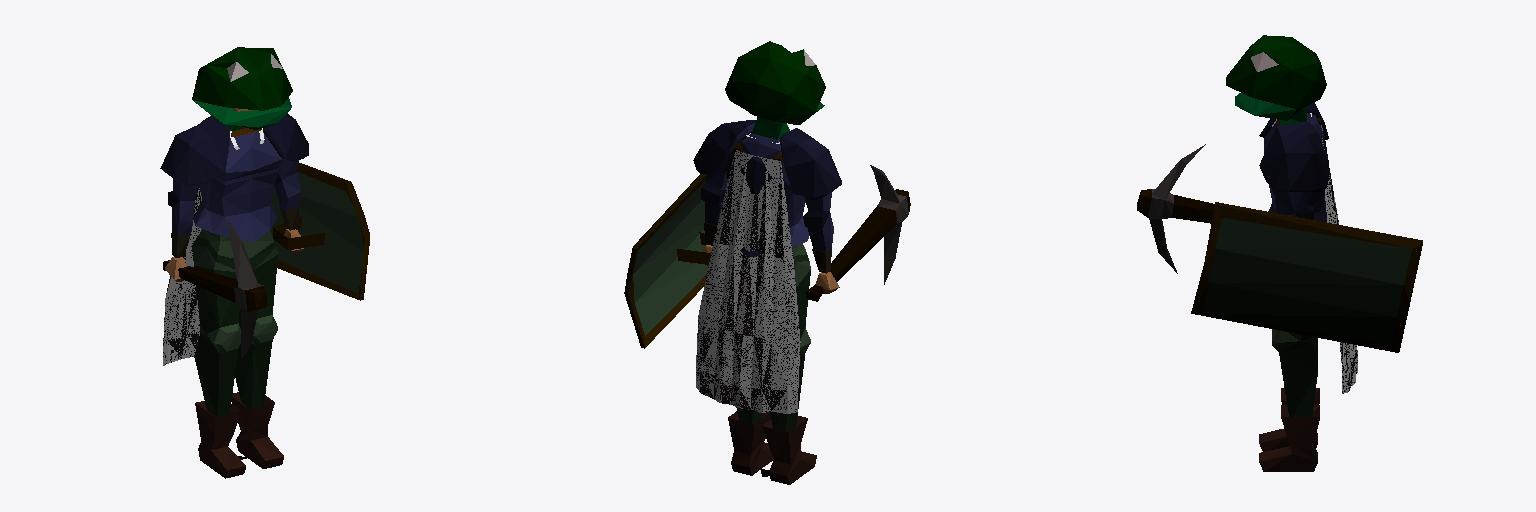
File: rsobj.obj
3 views of the same model, side by side, from view 1: azimuth 30°, elevation 25°; view 2: azimuth 150°, elevation 25°; view 3: azimuth 270°, elevation 25° (orthographic).
Visible parts, largest first — view 1: rsobj; view 2: rsobj; view 3: rsobj.
Boxes of the visible parts, box(x1,y1,x2,y2) form: rsobj: box(160, 47, 369, 478); rsobj: box(624, 41, 910, 484); rsobj: box(1137, 35, 1422, 471).
Size of the model in its own units: 83 by 209 by 131.